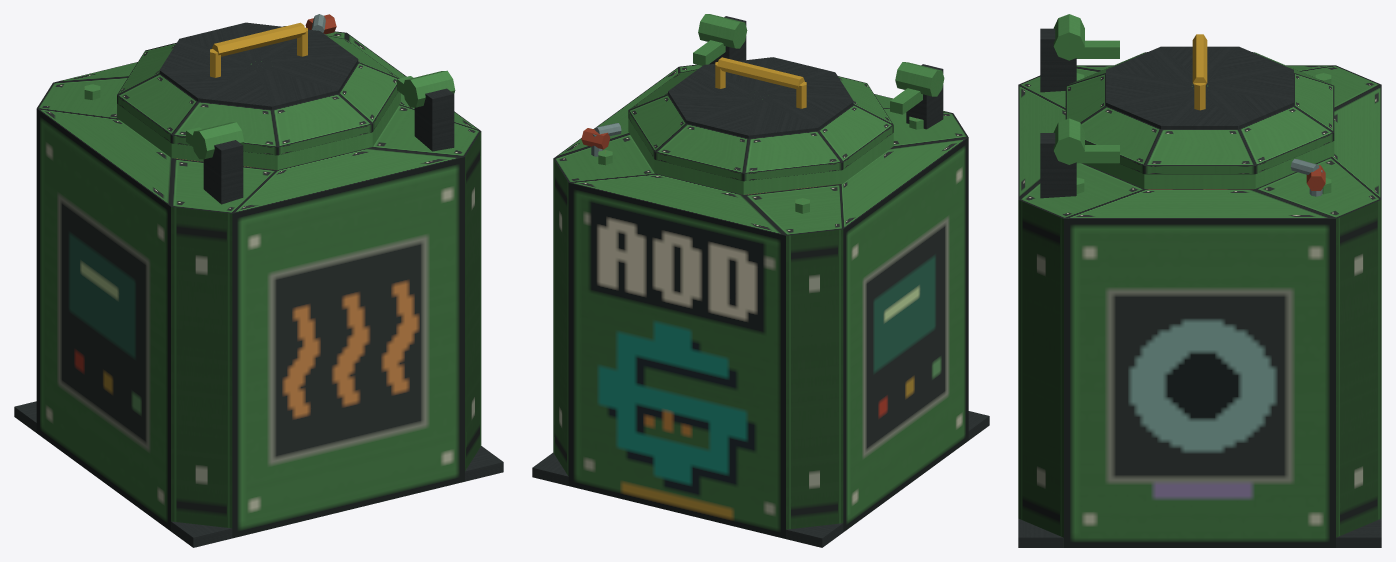
File: small_aod_ta4hfc5.obj
The picture shows the model from 3 angles, left to right: view 1: azimuth 30°, elevation 25°; view 2: azimuth 150°, elevation 25°; view 3: azimuth 270°, elevation 25°; orthographic projection. The views are drawn at different scales.
Visible parts, largest first — view 1: contact_south, contact_west, lid, cut_corners, shoulder, hinge, sole_edge; view 2: contact_north, contact_west, lid, cut_corners, shoulder, hinge, sole_edge, gas_trim; view 3: contact_east, lid, cut_corners, shoulder, hinge, sole_edge, gas_trim.
Boxes of the visible parts, <box> form: contact_south: <box>232,157,464,538</box>; contact_west: <box>36,109,170,531</box>; lid: <box>117,22,413,169</box>; cut_corners: <box>171,131,481,528</box>; shoulder: <box>37,26,480,213</box>; hinge: <box>191,70,455,204</box>; sole_edge: <box>14,401,503,547</box>; contact_north: <box>568,183,785,538</box>; contact_west: <box>843,137,968,532</box>; lid: <box>628,40,922,194</box>; cut_corners: <box>553,159,843,529</box>; shoulder: <box>553,64,968,235</box>; hinge: <box>698,14,944,129</box>; sole_edge: <box>532,411,989,547</box>; gas_trim: <box>581,123,621,156</box>; contact_east: <box>1064,219,1335,547</box>; lid: <box>1065,34,1334,188</box>; cut_corners: <box>1018,200,1381,537</box>; shoulder: <box>1018,65,1381,218</box>; hinge: <box>1040,14,1084,198</box>; sole_edge: <box>1018,518,1381,547</box>; gas_trim: <box>1291,159,1325,196</box>.
Size of the model in its own units: 1 by 1.26 by 1.
Materials: 14 (14 with a texture image).
